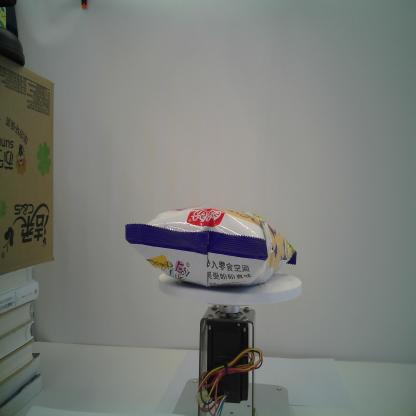Puffed Food: (123, 206, 296, 289)
